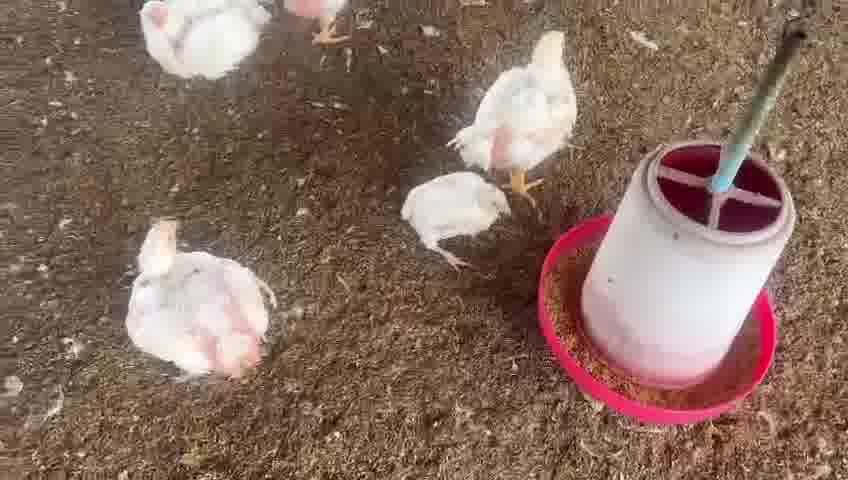AbNormal: (389, 160, 528, 264)
Normal: (134, 218, 295, 381), (448, 23, 591, 191), (134, 0, 273, 92)
